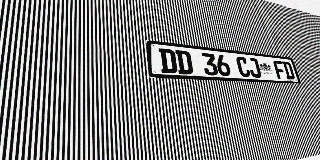plate: (146, 40, 301, 83)
